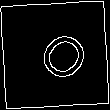O_SW: (21, 22, 89, 88)
